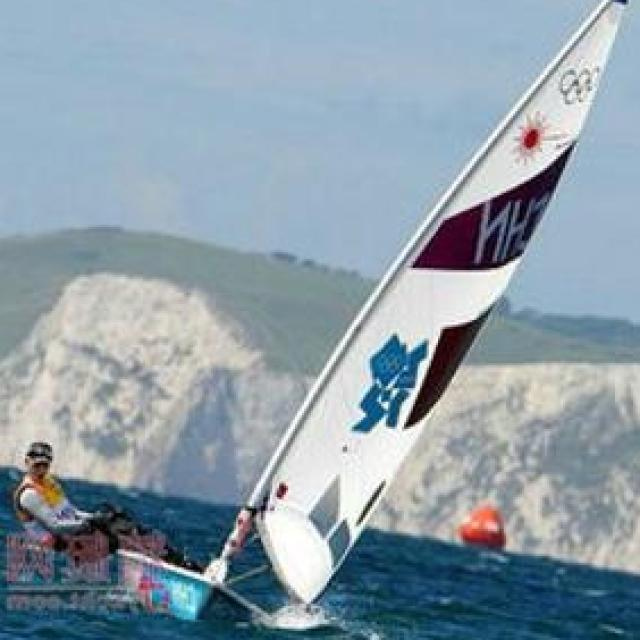sailboat: (113, 0, 640, 624)
